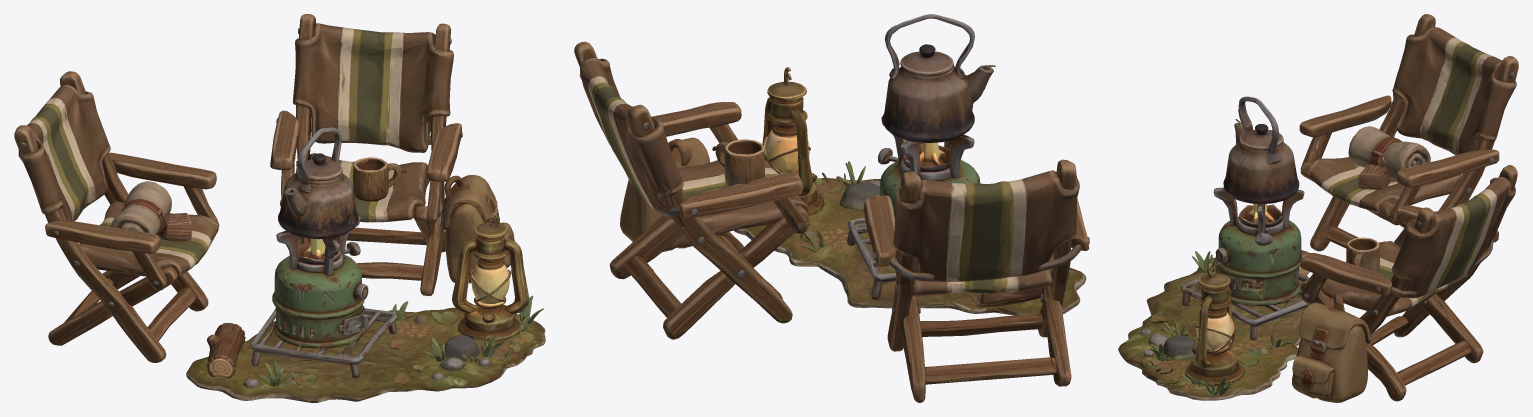
File: camp.glb
3 renders of one model, left to right at view 1: azimuth 30°, elevation 25°; view 2: azimuth 150°, elevation 25°; view 3: azimuth 270°, elevation 25°, orthographic. The views are drawn at different scales.
Parts seen in each view (by area): view 1: Mesh_0; view 2: Mesh_0; view 3: Mesh_0.
Boxes of the visible parts, box(x1,y1,x2,y2) form: Mesh_0: box(14, 14, 545, 402); Mesh_0: box(574, 14, 1089, 402); Mesh_0: box(1118, 14, 1518, 402).
Size of the model in its own units: 1.9 by 0.924 by 1.56.
1 material, 1 textured.
